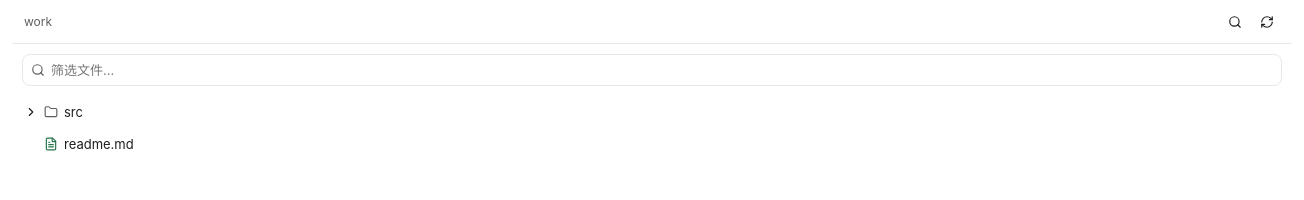
WorkspaceFilesPanel › filters cached descendants, shows empty results and clears without new requests
Click the list item "src": (31, 112) [12, 96, 1292, 128]
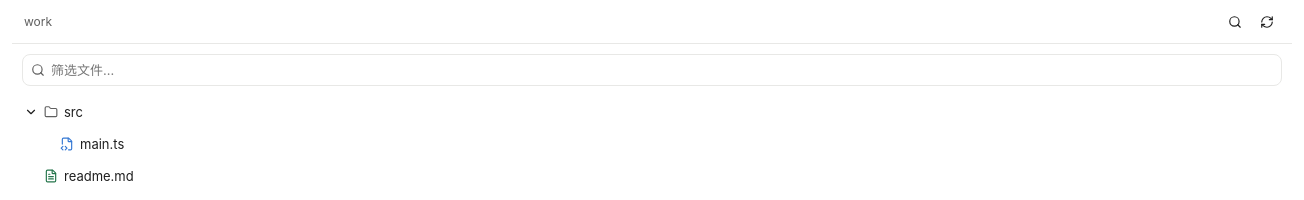
Expected: the list item "main.ts" is shown, [12, 128, 1292, 160]
Click the list item "src": (31, 112) [12, 96, 1292, 128]
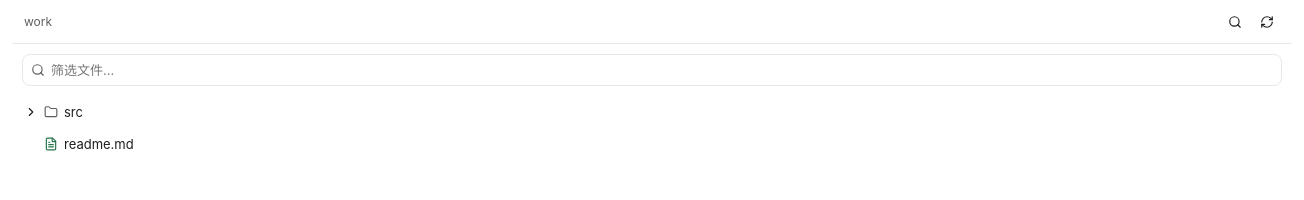
In the field labelled "筛选文件": (662, 70) [51, 57, 1273, 83], type "MAIN"
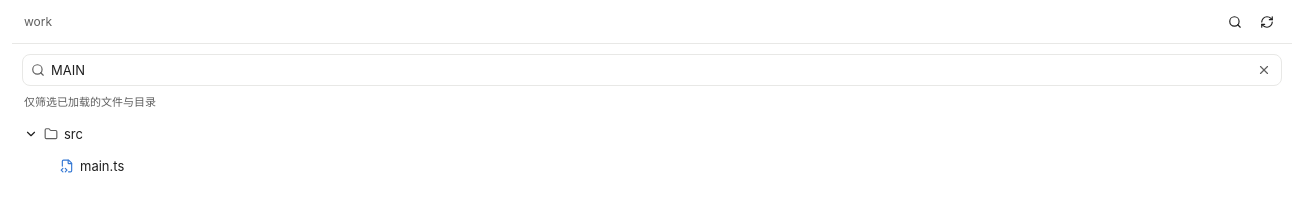
Expected: the list item "main.ts" is shown, [12, 150, 1292, 182]
Expected: the list item "readme.md" is gone
Expected: the text "仅筛选已加载的文件与目录" is shown, [24, 95, 156, 109]
Replace the text in the field named "筛选文件" with "missing": (650, 70) [51, 57, 1249, 83]
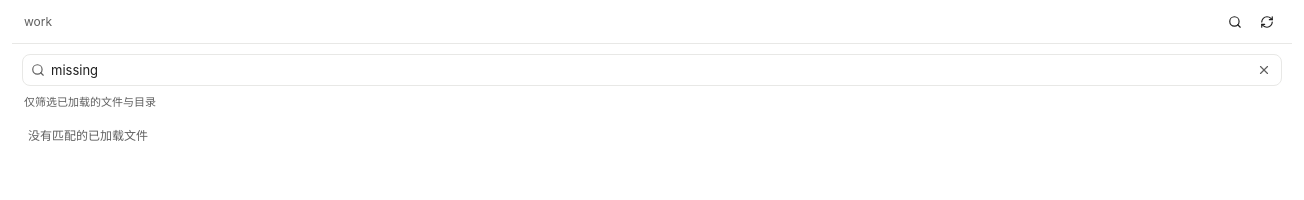
Expected: the message reads "没有匹配的已加载文件", [28, 128, 148, 143]
Click the button named "清除文件筛选": (1264, 70) [1255, 61, 1273, 79]
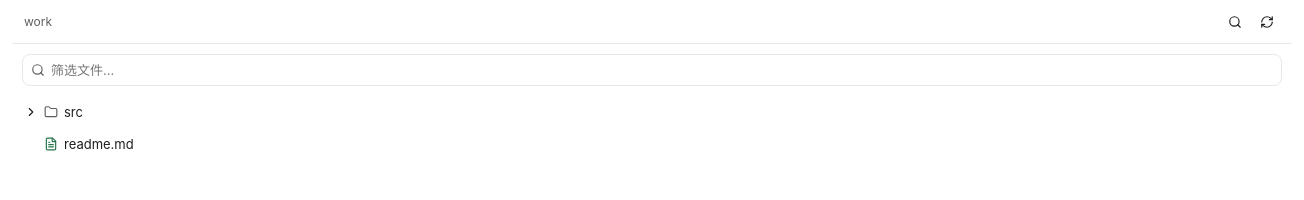
Expected: the list item "src" is collapsed, [12, 96, 1292, 128]
Expected: the list item "readme.md" is shown, [12, 128, 1292, 160]
Expected: the text "仅筛选已加载的文件与目录" is gone
